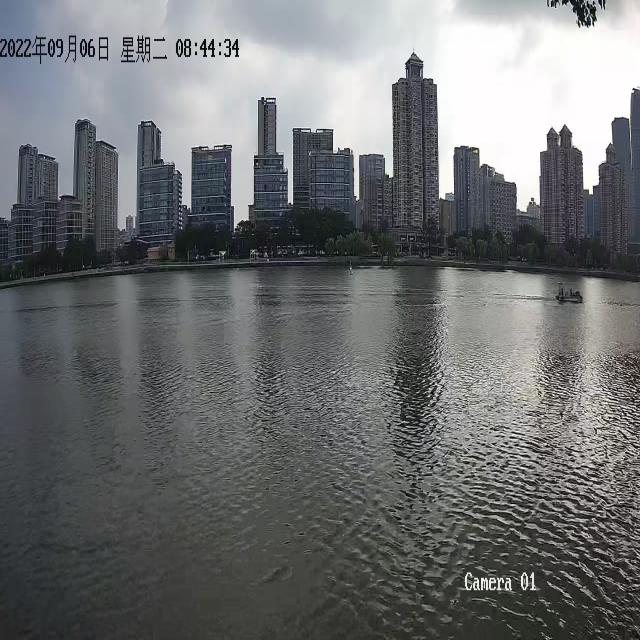ship: (555, 280, 582, 302)
